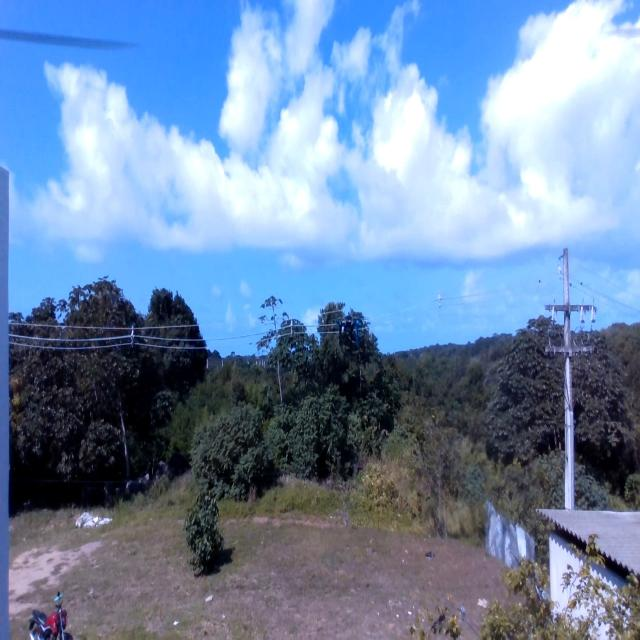-uav-: (339, 311, 362, 350)
